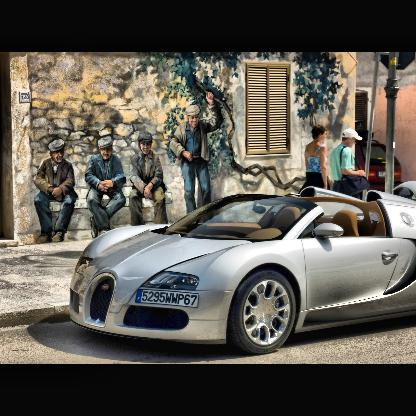Bugatti Veyron 16-4 Convertible 2009: (65, 188, 413, 356)
